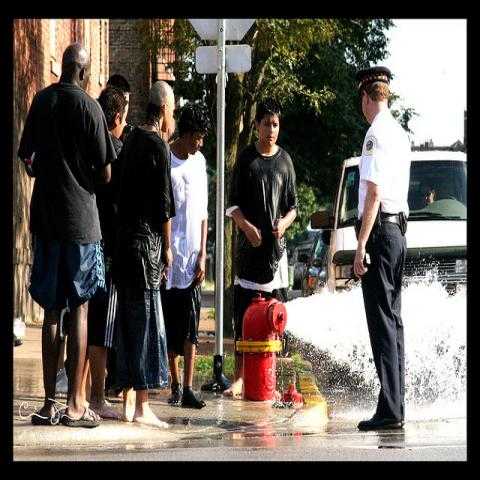car: (300, 232, 326, 297), (288, 240, 313, 290)
truck: (327, 147, 467, 294)
